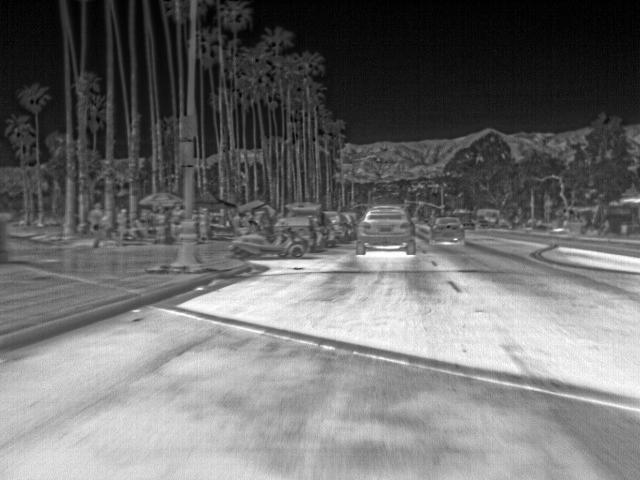car: (358, 201, 414, 253), (287, 199, 331, 249), (276, 214, 320, 255), (430, 213, 469, 243), (328, 207, 350, 244)
person: (88, 202, 109, 248), (168, 200, 186, 240), (152, 206, 170, 246), (114, 204, 129, 244)
